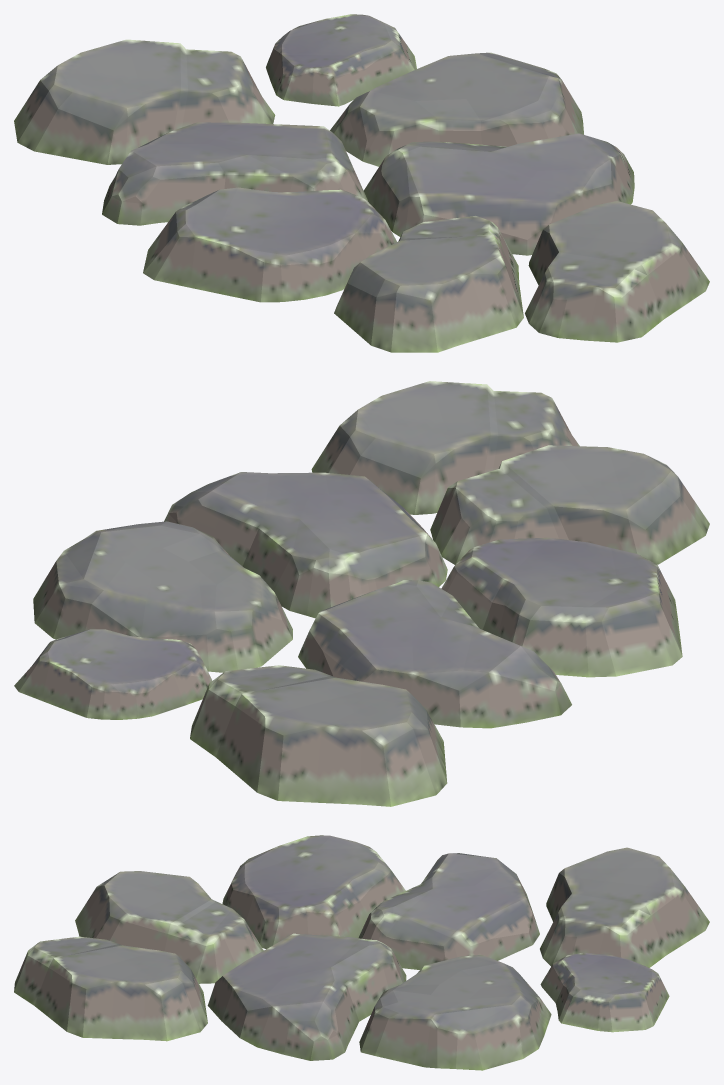
The model's file is rock_path_round_a.glb.
The picture shows the model from 3 angles, top to bottom: view 1: azimuth 30°, elevation 25°; view 2: azimuth 150°, elevation 25°; view 3: azimuth 270°, elevation 25°; orthographic projection. The views are drawn at different scales.
Visible parts, largest first — view 1: RockPath_Round_Small_1; view 2: RockPath_Round_Small_1; view 3: RockPath_Round_Small_1.
Boxes of the visible parts, <box> form: RockPath_Round_Small_1: <box>14,14,709,352</box>; RockPath_Round_Small_1: <box>14,381,709,806</box>; RockPath_Round_Small_1: <box>14,835,709,1070</box>.
Bounding box in the file's own units: 1.06 × 0.1128 × 1.48.
Materials: 1 (1 with a texture image).
